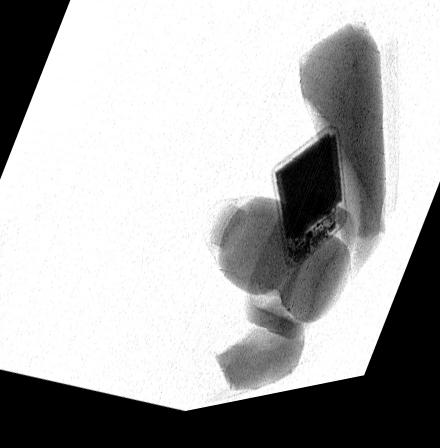Powerbank: (271, 136, 348, 277)
